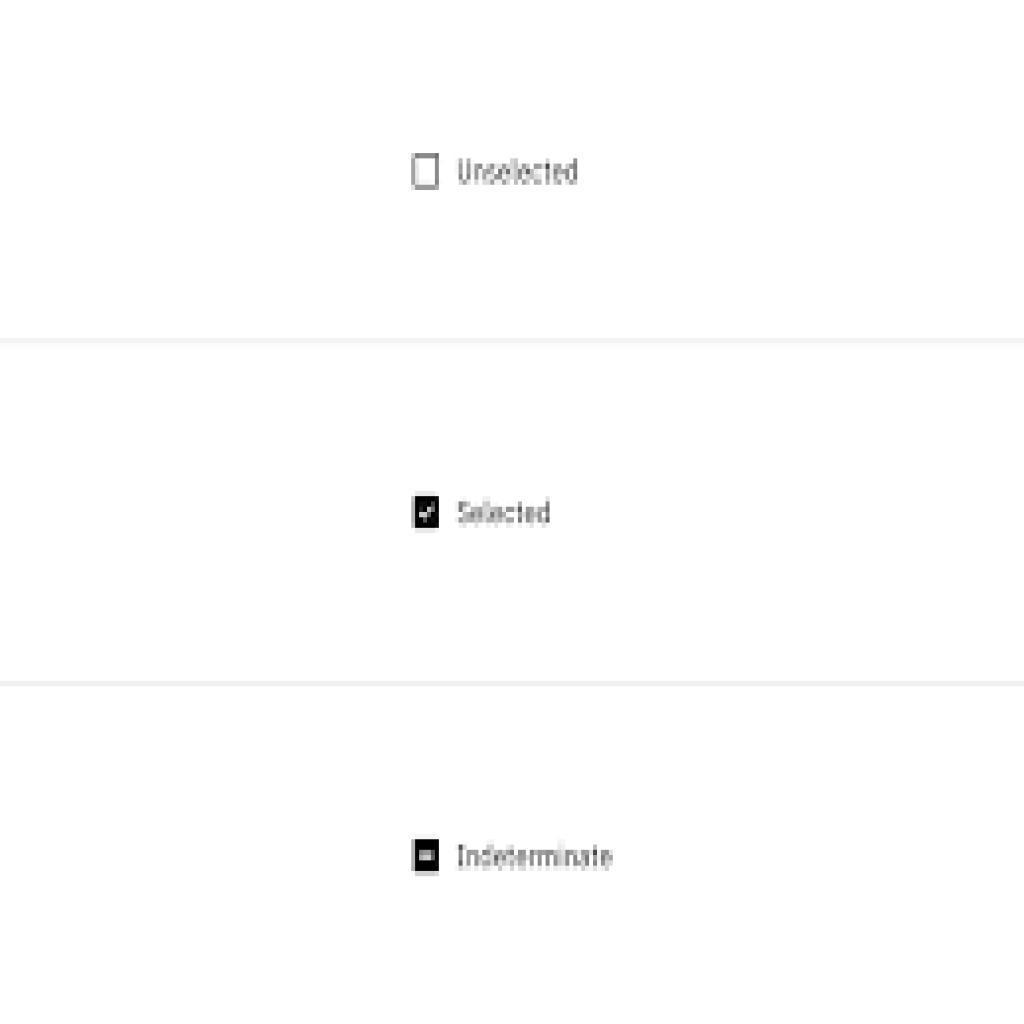checkbox: (414, 154, 440, 189), (416, 841, 440, 872), (415, 498, 438, 528)
label: (452, 838, 620, 876), (454, 150, 590, 193), (454, 492, 552, 533)
